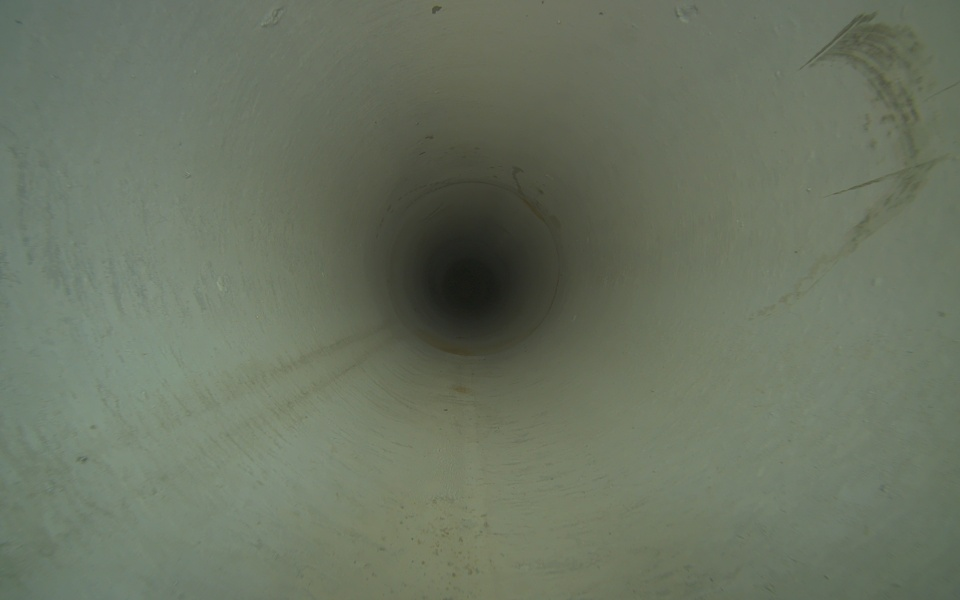circle1: (388, 182, 559, 354)
circle2: (442, 256, 496, 309)
